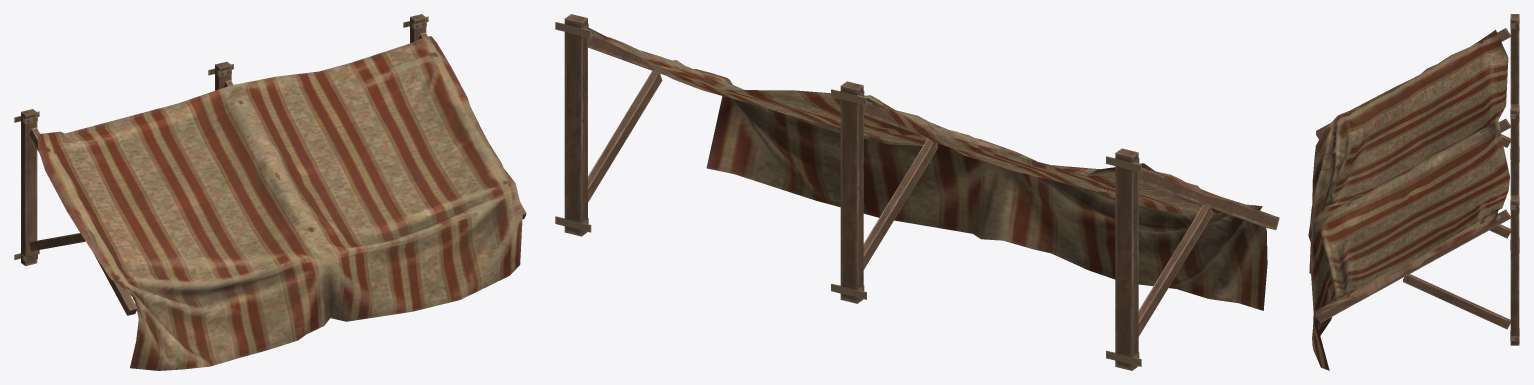
Rendered from awning.lod1.glb.
3 views of the same model, side by side, from view 1: azimuth 30°, elevation 25°; view 2: azimuth 150°, elevation 25°; view 3: azimuth 270°, elevation 25° (orthographic). The views are drawn at different scales.
Parts seen in each view (by area): view 1: tarp_tarp_0, wood_base_0; view 2: tarp_tarp_0, wood_base_0; view 3: tarp_tarp_0, wood_base_0.
Boxes of the visible parts, left/top/right/bottom form: tarp_tarp_0: left=37, top=36, right=522, bottom=370; wood_base_0: left=14, top=14, right=526, bottom=315; tarp_tarp_0: left=588, top=28, right=1267, bottom=310; wood_base_0: left=555, top=14, right=1279, bottom=370; tarp_tarp_0: left=1308, top=30, right=1509, bottom=370; wood_base_0: left=1316, top=14, right=1519, bottom=345.
Size of the model in its own units: 10.33 by 4.64 by 4.77.
Materials: 2 (2 with a texture image).
